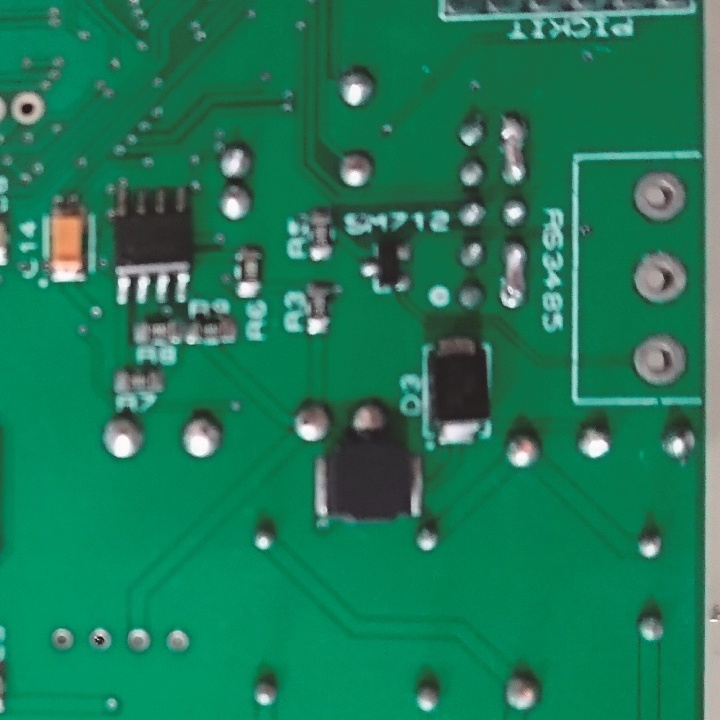F: (630, 249, 690, 309), (630, 167, 690, 226), (630, 328, 687, 388), (10, 89, 49, 129), (161, 626, 193, 655), (124, 626, 153, 656), (86, 626, 113, 654), (49, 626, 76, 653)
P: (498, 109, 533, 189), (499, 239, 530, 312)
